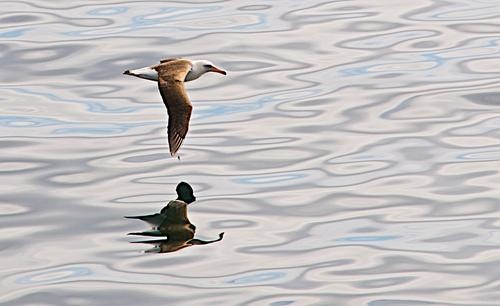bird: (121, 57, 226, 157)
